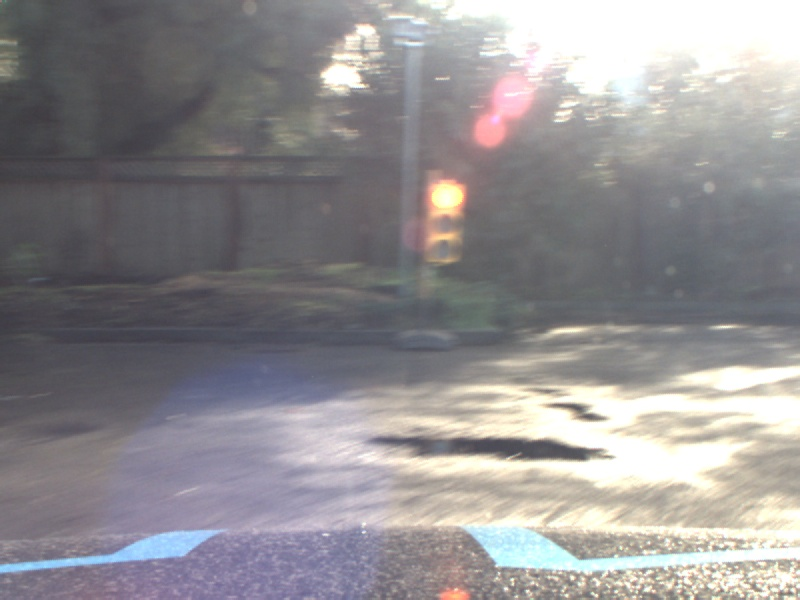Red: (426, 180, 463, 263)
